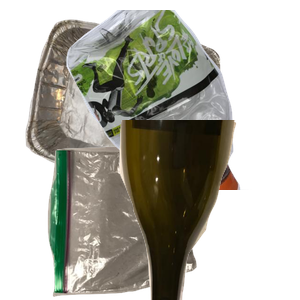glass: (117, 120, 300, 300)
metal: (23, 17, 236, 197)
plastic: (64, 10, 300, 190)
trash: (45, 144, 235, 300)
